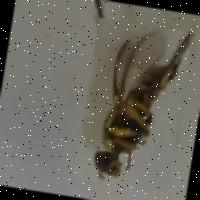Oriental-fruit-fly: (73, 17, 192, 192)
